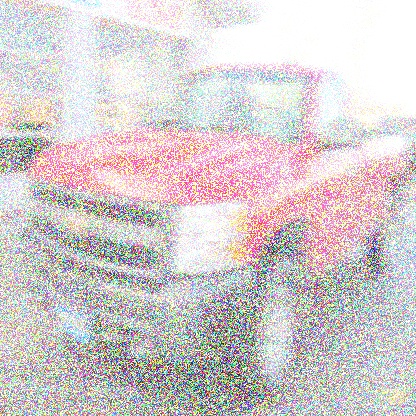Vehicle: (6, 48, 413, 401)
